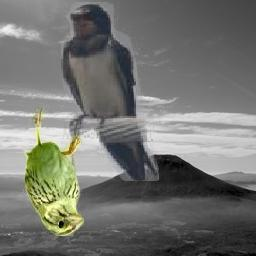Sparrow: (24, 108, 85, 237)
Swallow: (61, 3, 159, 182)
